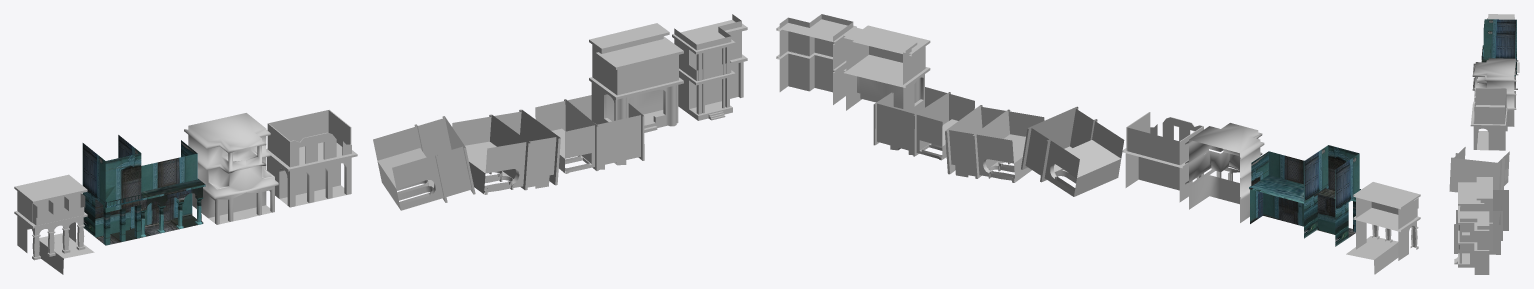
Rendered from Habana_House.FBX.
The picture shows the model from 3 angles, left to right: view 1: azimuth 30°, elevation 25°; view 2: azimuth 150°, elevation 25°; view 3: azimuth 270°, elevation 25°; orthographic projection. The views are drawn at different scales.
Parts seen in each view (by area): view 1: Polygonal_Geometry (×6), Edificio6_unfold3d_unfold3d, Polygonal_Geometry_2 (×4), 1, Edificio5_unfold3d, Polygonal_Geometry_3 (×3), Polygonal_Geometry_1 (×4), Polygonal_Geometry_4; view 2: Polygonal_Geometry (×6), Edificio6_unfold3d_unfold3d, Polygonal_Geometry_2 (×4), Polygonal_Geometry_3 (×3), 1, Polygonal_Geometry_1 (×4), Edificio5_unfold3d; view 3: Polygonal_Geometry (×3), Edificio5_unfold3d, 1, Edificio6_unfold3d_unfold3d, Polygonal_Geometry_1, Polygonal_Geometry_3 (×3), Polygonal_Geometry_2.
Boxes of the visible parts, x1=… form: Polygonal_Geometry (×6): x1=39, y1=14, x2=747, y2=274; Edificio6_unfold3d_unfold3d: x1=82, y1=135, x2=205, y2=245; Polygonal_Geometry_2 (×4): x1=17, y1=101, x2=594, y2=260; 1: x1=184, y1=113, x2=278, y2=224; Edificio5_unfold3d: x1=266, y1=109, x2=357, y2=207; Polygonal_Geometry_3 (×3): x1=14, y1=109, x2=560, y2=228; Polygonal_Geometry_1 (×4): x1=17, y1=95, x2=640, y2=222; Polygonal_Geometry_4: x1=32, y1=193, x2=85, y2=225; Polygonal_Geometry (×6): x1=776, y1=14, x2=1398, y2=274; Edificio6_unfold3d_unfold3d: x1=1249, y1=145, x2=1360, y2=246; Polygonal_Geometry_2 (×4): x1=916, y1=93, x2=1418, y2=260; Polygonal_Geometry_3 (×3): x1=945, y1=105, x2=1420, y2=231; 1: x1=1185, y1=123, x2=1264, y2=222; Polygonal_Geometry_1 (×4): x1=877, y1=87, x2=1414, y2=229; Edificio5_unfold3d: x1=1122, y1=112, x2=1208, y2=202; Polygonal_Geometry (×3): x1=1454, y1=177, x2=1502, y2=274; Edificio5_unfold3d: x1=1470, y1=88, x2=1507, y2=150; 1: x1=1472, y1=58, x2=1518, y2=126; Edificio6_unfold3d_unfold3d: x1=1481, y1=19, x2=1516, y2=76; Polygonal_Geometry_1: x1=1449, y1=157, x2=1500, y2=192; Polygonal_Geometry_3 (×3): x1=1454, y1=14, x2=1514, y2=230; Polygonal_Geometry_2: x1=1458, y1=147, x2=1509, y2=185.
Size of the model in its own units: 247 by 38.84 by 32.6.
